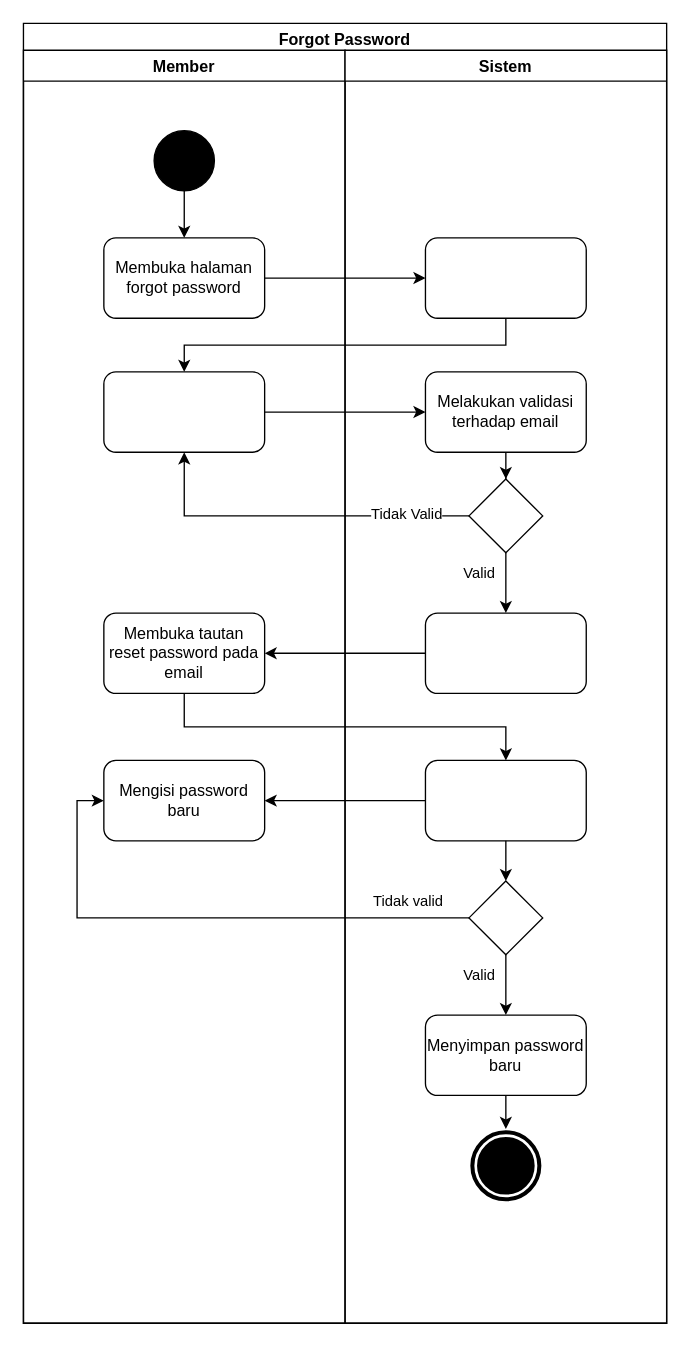
The diagram is 690 pixels wide and 1347 high, and some of its shapes have lost their labels. The centre of each missing label's shape, as x and y in pixels:
"Menamiplkan halaman forgot password" goes at point (505, 277).
"Menampilkan halaman reset password" goes at point (505, 800).
"Mengirim link reset password ke email yang ditulis" goes at point (505, 652).
"Mengisi email" goes at point (184, 411).
